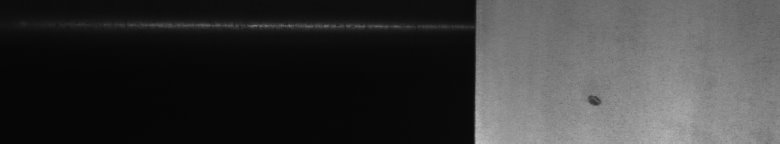fi: (581, 88, 604, 113)
